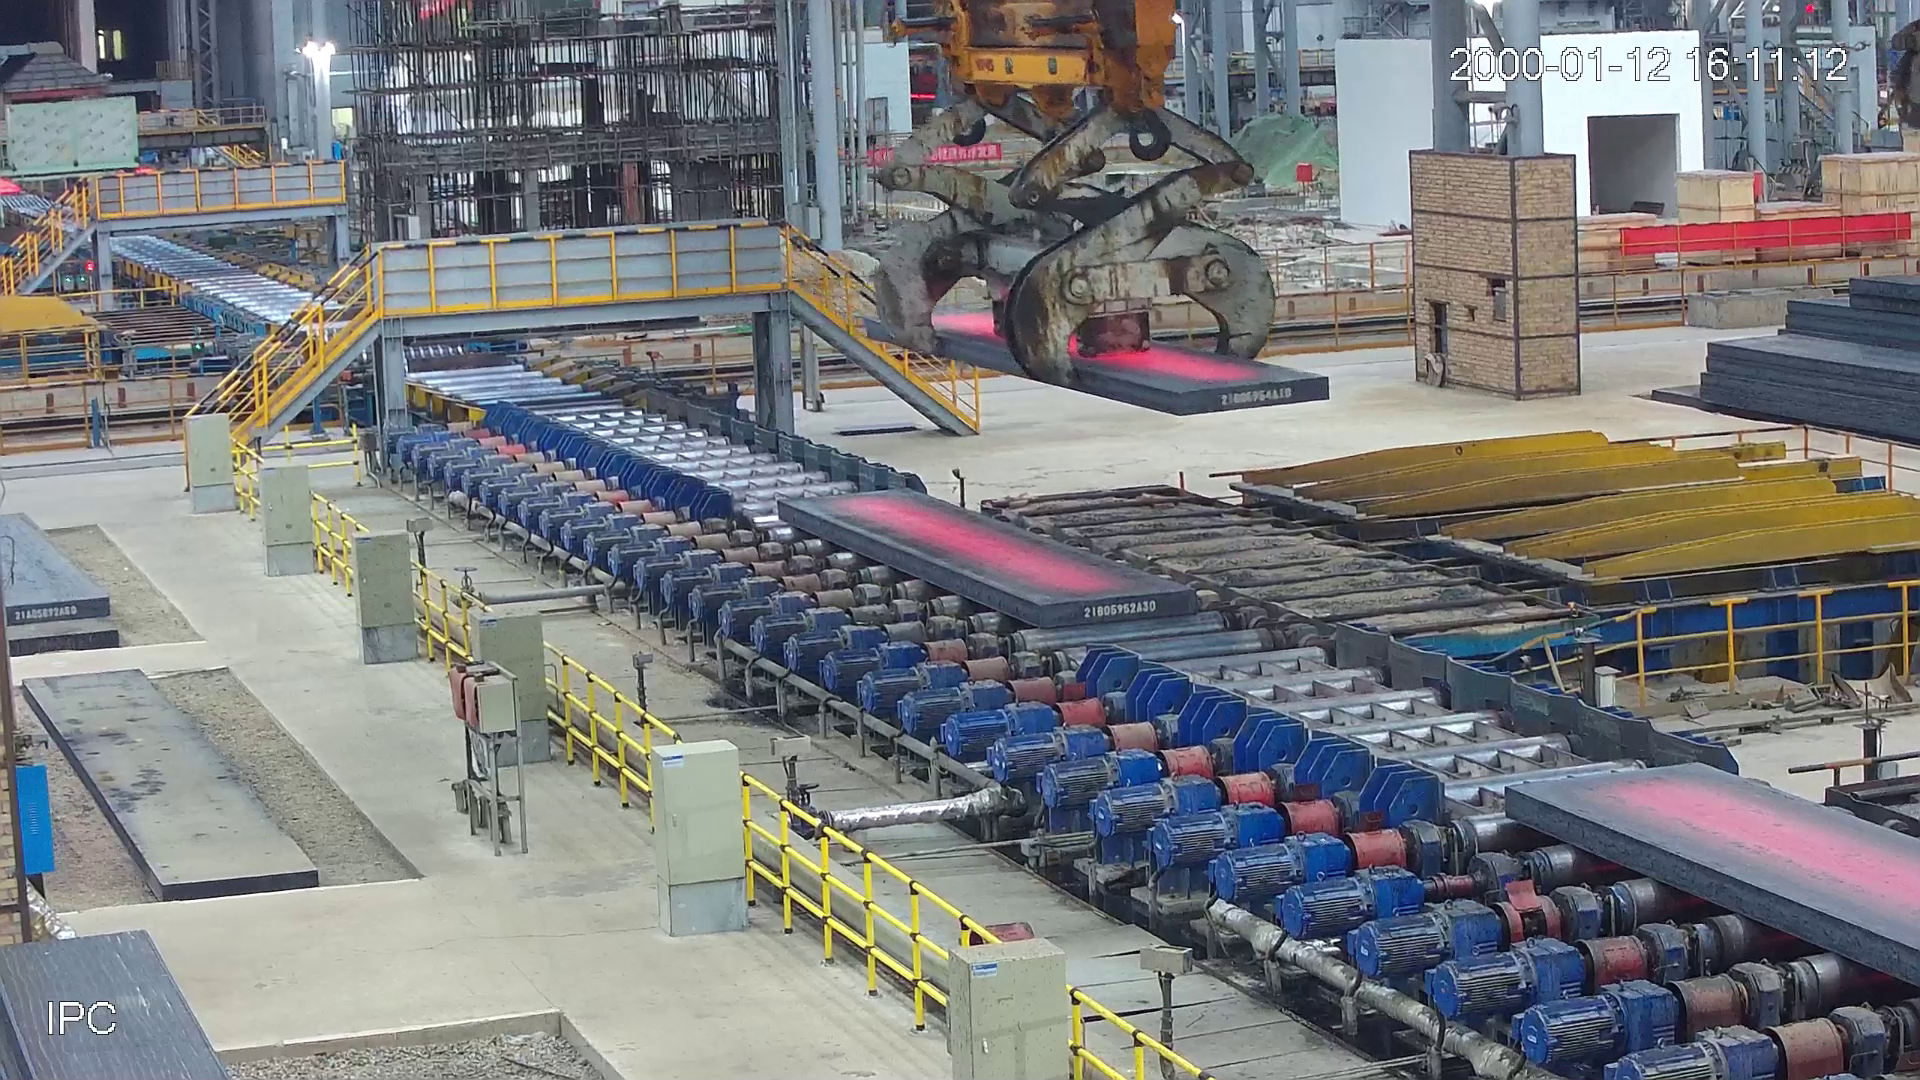craneandslab: (866, 1, 1331, 411)
slab: (1495, 766, 1920, 992), (778, 493, 1188, 626)
